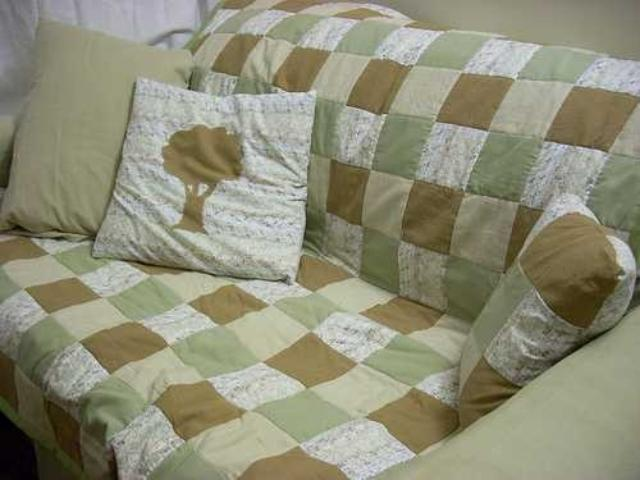pillow: (90, 76, 316, 284)
